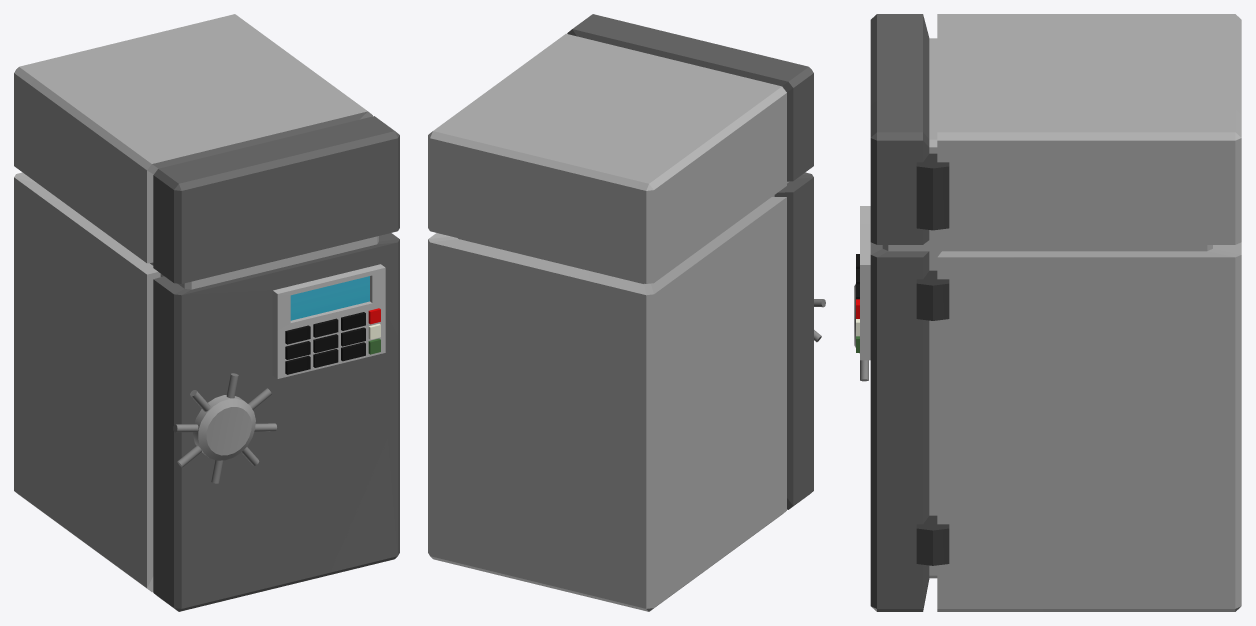
Rendered from MoneyCase.fbx.
The picture shows the model from 3 angles, left to right: view 1: azimuth 30°, elevation 25°; view 2: azimuth 150°, elevation 25°; view 3: azimuth 270°, elevation 25°; orthographic projection. The views are drawn at different scales.
Visible parts, largest first — view 1: MoneyCase; view 2: MoneyCase; view 3: MoneyCase.
Part boxes in pixels (x1=…): MoneyCase: x1=14, y1=14, x2=399, y2=611; MoneyCase: x1=428, y1=14, x2=825, y2=611; MoneyCase: x1=854, y1=14, x2=1241, y2=611.
Bounding box in the file's own units: 572 × 964 × 706.
